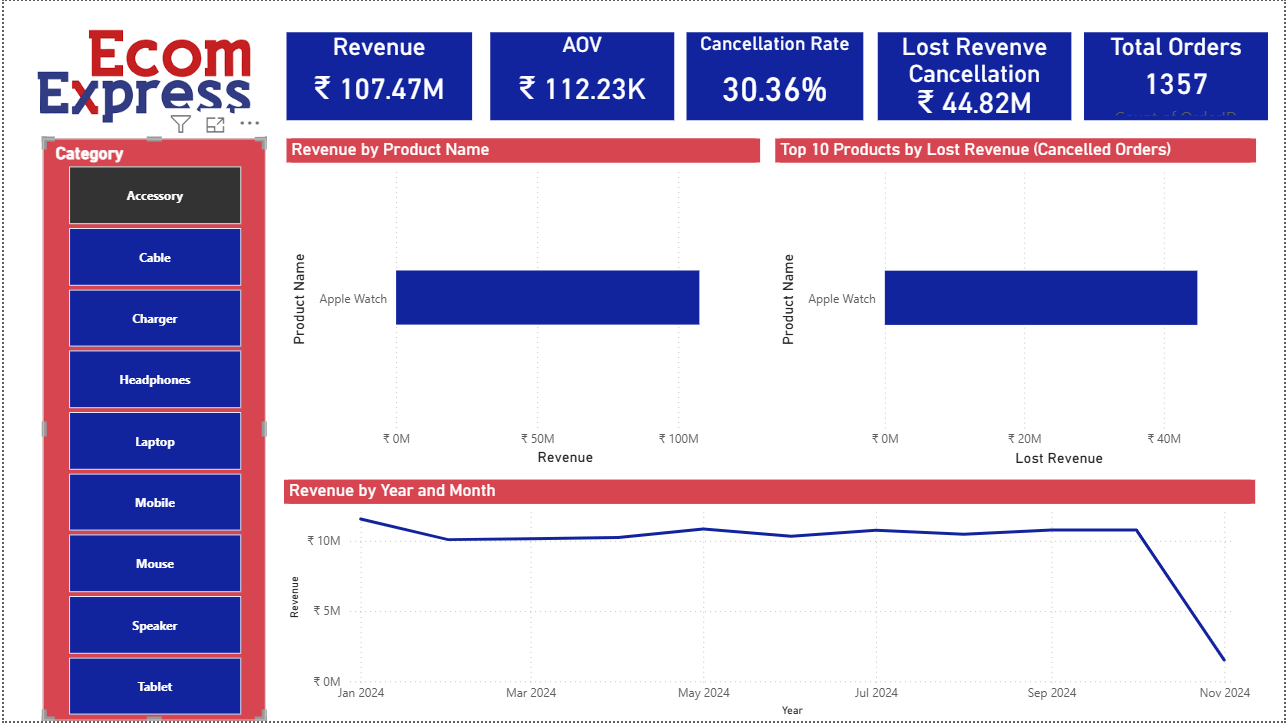

What the dashboard file says about the page in this screenshot:
{"tool":"powerbi","page":{"name":"Page 1","canvas":[1280,720],"ordinal":0},"visuals":[{"type":"image","box":[0,13.7,279.9,123.5],"z":0},{"type":"barChart","fields":{"Y":["table.Revenue"],"Category":["Product.Product Name"]},"box":[282.7,137.2,473.4,332.1],"z":1000},{"type":"barChart","title":"Top 10 Products by Lost Revenue (Cancelled Orders)","fields":{"Category":["Product.Product Name"],"Y":["table.lost_rev_cancellation"]},"box":[770.8,137.3,480.4,332.6],"z":2000},{"type":"lineChart","fields":{"Y":["table.Revenue"],"Category":["Orders.Date and time of purchase.Variation.Date Hierarchy.Year","Orders.Date and time of purchase.Variation.Date Hierarchy.Month"]},"box":[279.9,478.9,971.5,241.5],"z":3000},{"type":"card","title":"Revenue","fields":{"Values":["table.Revenue"]},"box":[282.7,31.6,185.2,87.8],"z":4000},{"type":"card","title":"Total Orders","fields":{"Values":["CountNonNull(Orders.OrderID)"]},"box":[1079.9,31.6,183.9,87.8],"z":5000},{"type":"card","title":"AOV","fields":{"Values":["table.AOV"]},"box":[485.8,31.6,183.9,87.8],"z":6000},{"type":"card","title":"Cancellation Rate","fields":{"Values":["table.Cancellation Rate"]},"box":[682,31.6,177,87.8],"z":7000},{"type":"card","title":"Lost Revenve Cancellation","fields":{"Values":["table.lost_rev_cancellation"]},"box":[874.1,31.6,193.5,87.8],"z":8000},{"type":"slicer","fields":{"Values":["Product.Category"]},"box":[38.4,137.2,222.3,583.2],"z":9000}]}

Visuals, with their boxes on the page's 1280x720 design canvas (x1, y1, x2, y2). These are canvas units, not pixel positions in the 1288x725 screenshot, which may show the page scaled, cropped or inside an application window:
image: [0, 14, 280, 137]
barChart - table.Revenue x Product.Product Name: [283, 137, 756, 469]
"Top 10 Products by Lost Revenue (Cancelled Orders)" barChart: [771, 137, 1251, 470]
lineChart - table.Revenue x Orders.Date and time of purchase.Variation.Date Hierarchy.Year: [280, 479, 1251, 720]
"Revenue" card: [283, 32, 468, 119]
"Total Orders" card: [1080, 32, 1264, 119]
"AOV" card: [486, 32, 670, 119]
"Cancellation Rate" card: [682, 32, 859, 119]
"Lost Revenve Cancellation" card: [874, 32, 1068, 119]
slicer - Product.Category: [38, 137, 261, 720]
